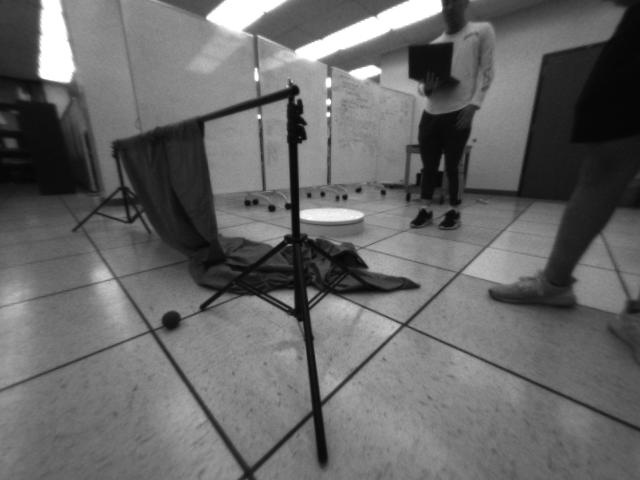dogtoy: (156, 304, 189, 334)
